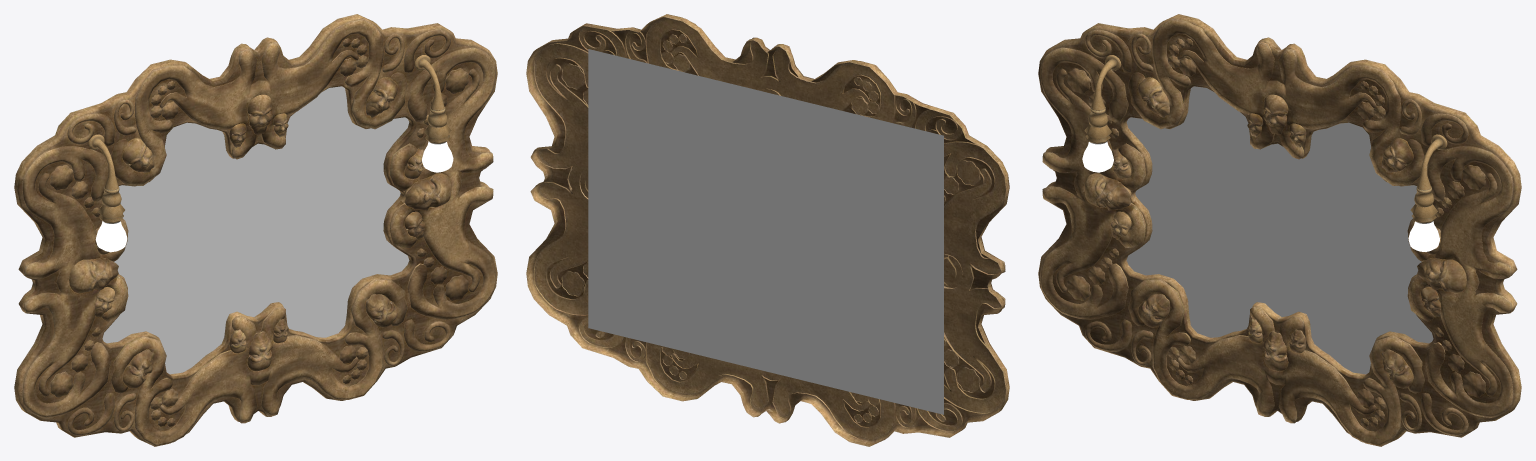
3 renders of one model, left to right at view 1: azimuth 30°, elevation 25°; view 2: azimuth 150°, elevation 25°; view 3: azimuth 330°, elevation 25°, orthographic.
Parts seen in each view (by area): view 1: 2ndFlr_FancyMirror_Core, 2ndFlr_FancyMirror_Glass, 2ndFlr_FancyMirror_Lamp; view 2: 2ndFlr_FancyMirror_Glass, 2ndFlr_FancyMirror_Core; view 3: 2ndFlr_FancyMirror_Core, 2ndFlr_FancyMirror_Glass, 2ndFlr_FancyMirror_Lamp.
Boxes of the visible parts, left/top/right/bottom form: 2ndFlr_FancyMirror_Core: left=14, top=14, right=497, bottom=446; 2ndFlr_FancyMirror_Glass: left=102, top=86, right=409, bottom=374; 2ndFlr_FancyMirror_Lamp: left=88, top=55, right=453, bottom=252; 2ndFlr_FancyMirror_Glass: left=588, top=49, right=943, bottom=414; 2ndFlr_FancyMirror_Core: left=526, top=14, right=1009, bottom=446; 2ndFlr_FancyMirror_Core: left=1038, top=14, right=1521, bottom=446; 2ndFlr_FancyMirror_Glass: left=1126, top=86, right=1433, bottom=374; 2ndFlr_FancyMirror_Lamp: left=1082, top=55, right=1447, bottom=251.
Bounding box in the file's own units: 108 × 81.62 × 11.12.
Materials: 3 (2 with a texture image).
